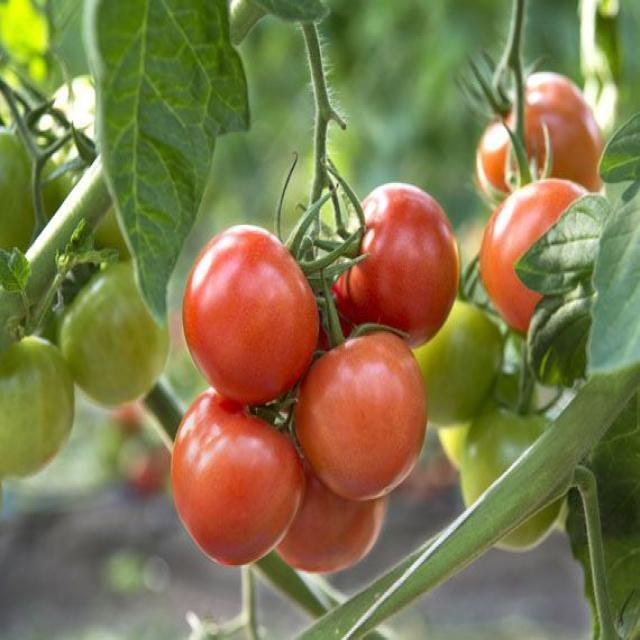level 2: (35, 67, 167, 268), (64, 255, 164, 401), (0, 334, 76, 478), (0, 132, 67, 284)
level 5: (174, 392, 295, 569), (482, 177, 610, 340), (306, 337, 432, 502), (483, 75, 608, 224), (270, 421, 383, 578)
level 6: (186, 217, 318, 406), (336, 180, 453, 347)
